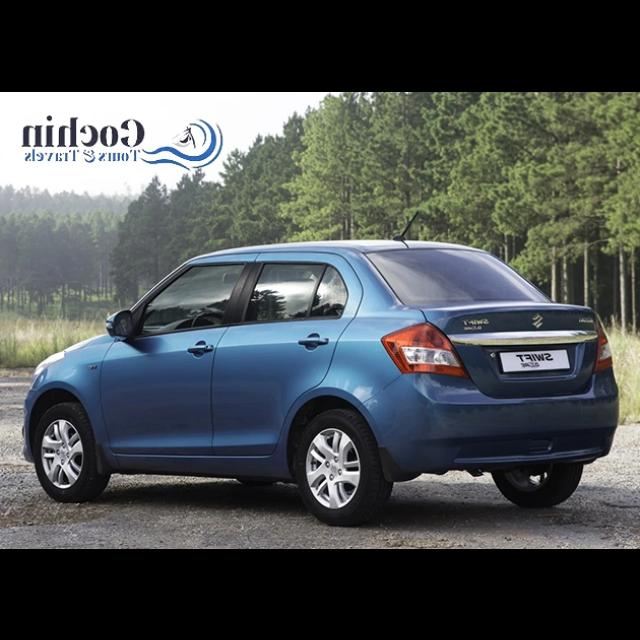number-plate: (499, 347, 574, 371)
vehicles: (21, 236, 628, 527)
